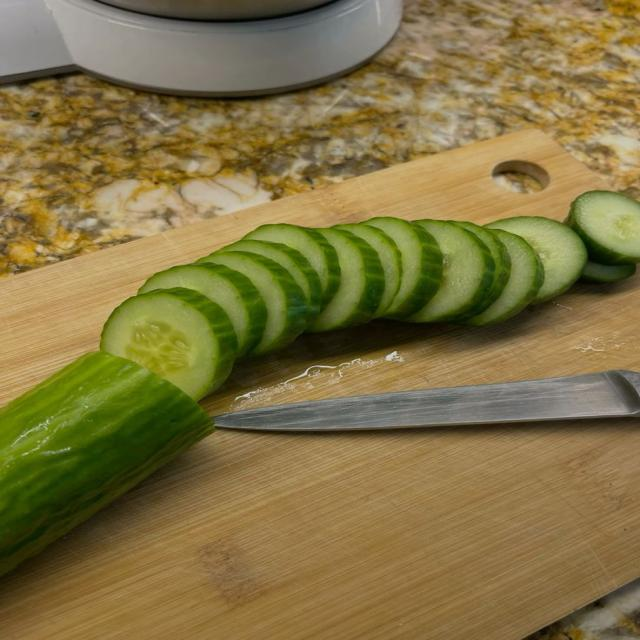cucumber sliced: (0, 352, 213, 574), (100, 288, 237, 399), (139, 263, 266, 356), (197, 252, 306, 355), (406, 220, 494, 322), (486, 217, 586, 303), (219, 239, 321, 320), (362, 217, 442, 319), (462, 229, 544, 326), (307, 229, 384, 332), (245, 224, 339, 304), (334, 224, 401, 317), (452, 221, 511, 315), (567, 191, 639, 264), (580, 261, 636, 283)
